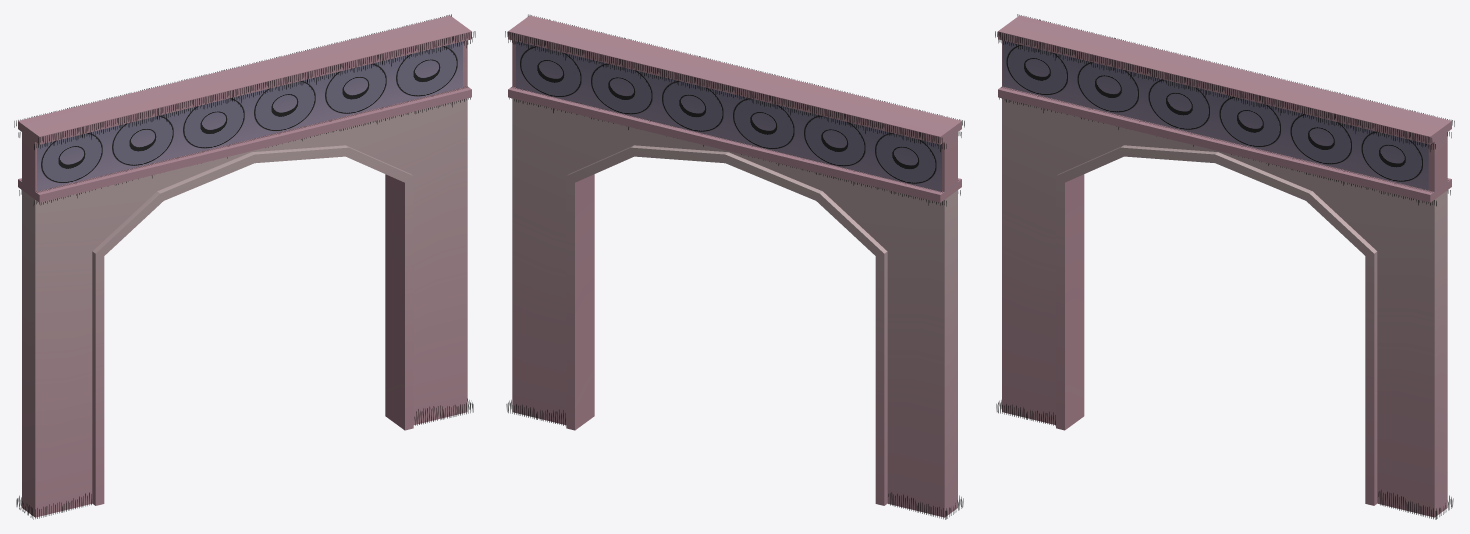
File: pipsArch.bb31ec8a.glb
The picture shows the model from 3 angles, left to right: view 1: azimuth 30°, elevation 25°; view 2: azimuth 150°, elevation 25°; view 3: azimuth 330°, elevation 25°; orthographic projection.
Parts seen in each view (by area): view 1: Arc; view 2: Arc; view 3: Arc.
Part boxes in pixels (bbox=[...]): Arc: bbox=[14, 14, 475, 519]; Arc: bbox=[505, 14, 964, 519]; Arc: bbox=[995, 14, 1454, 519].
Size of the model in its own units: 4.24 by 3.54 by 0.3863.
Materials: 2 (2 with a texture image).
